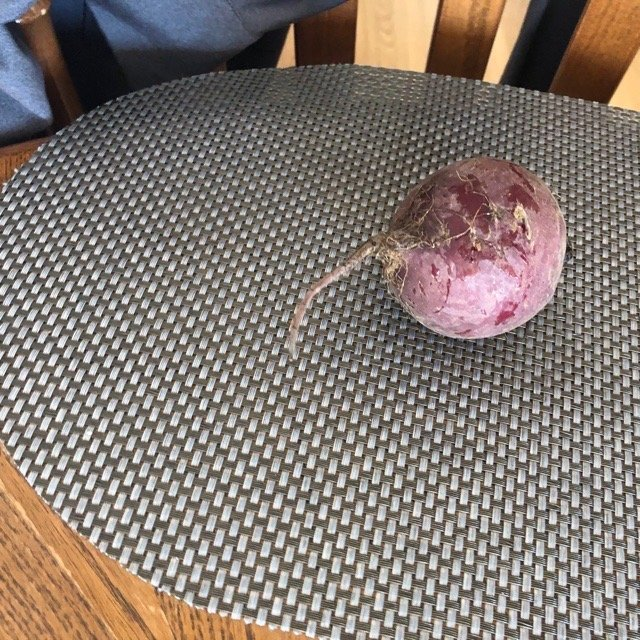beet: (287, 155, 563, 359)
